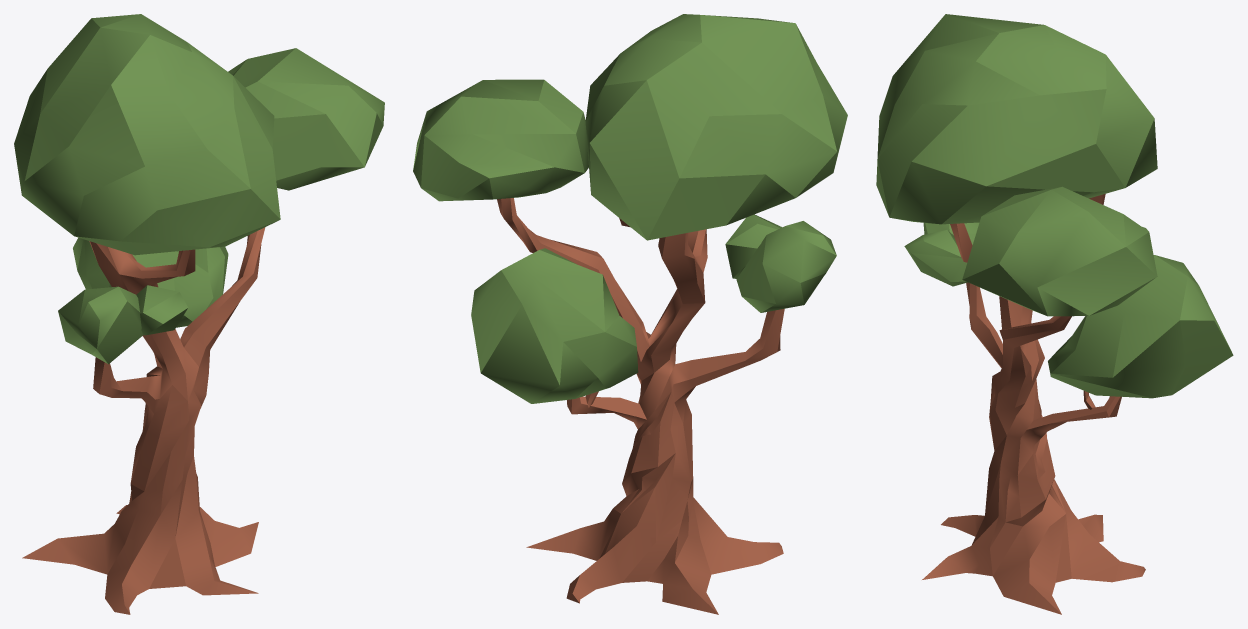
The model's file is Tree_4b.fbx.
The picture shows the model from 3 angles, left to right: view 1: azimuth 30°, elevation 25°; view 2: azimuth 150°, elevation 25°; view 3: azimuth 270°, elevation 25°; orthographic projection. The views are drawn at different scales.
Visible parts, largest first — view 1: Tree_4b; view 2: Tree_4b; view 3: Tree_4b.
Boxes of the visible parts, bbox=[...] form: Tree_4b: bbox=[14, 14, 384, 614]; Tree_4b: bbox=[413, 14, 847, 614]; Tree_4b: bbox=[876, 14, 1233, 614].
Bounding box in the file's own units: 167 × 224 × 140.
